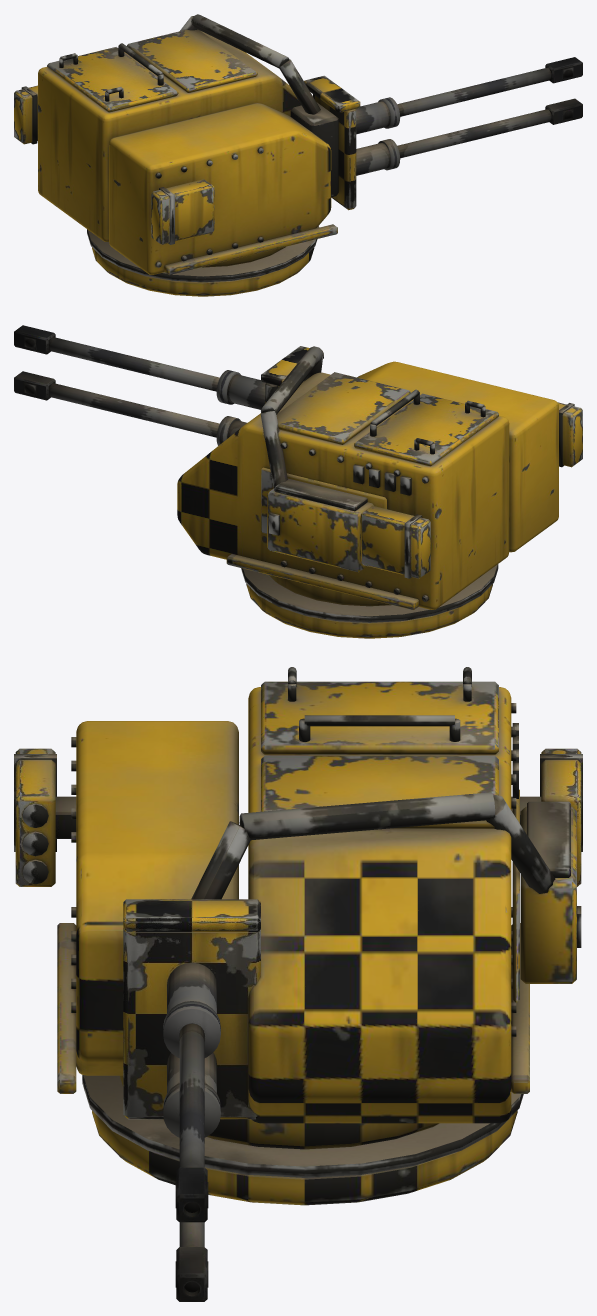
File: turret_grach_t2_chequer.glb
3 renders of one model, top to bottom at view 1: azimuth 30°, elevation 25°; view 2: azimuth 150°, elevation 25°; view 3: azimuth 270°, elevation 25°, orthographic. The views are drawn at different scales.
Parts seen in each view (by area): view 1: turret_light_t2, guns, pods; view 2: turret_light_t2, guns, pods; view 3: turret_light_t2, guns, pods.
Boxes of the visible parts, <box> form: turret_light_t2: <box>38,14,337,296</box>; guns: <box>290,57,582,210</box>; pods: <box>14,85,214,244</box>; turret_light_t2: <box>177,346,558,638</box>; guns: <box>14,325,323,445</box>; pods: <box>360,402,582,578</box>; turret_light_t2: <box>57,667,581,1205</box>; guns: <box>123,899,260,1301</box>; pods: <box>14,748,582,886</box>.
Size of the model in its own units: 1.64 by 0.6416 by 0.9088.
Materials: 3 (3 with a texture image).
